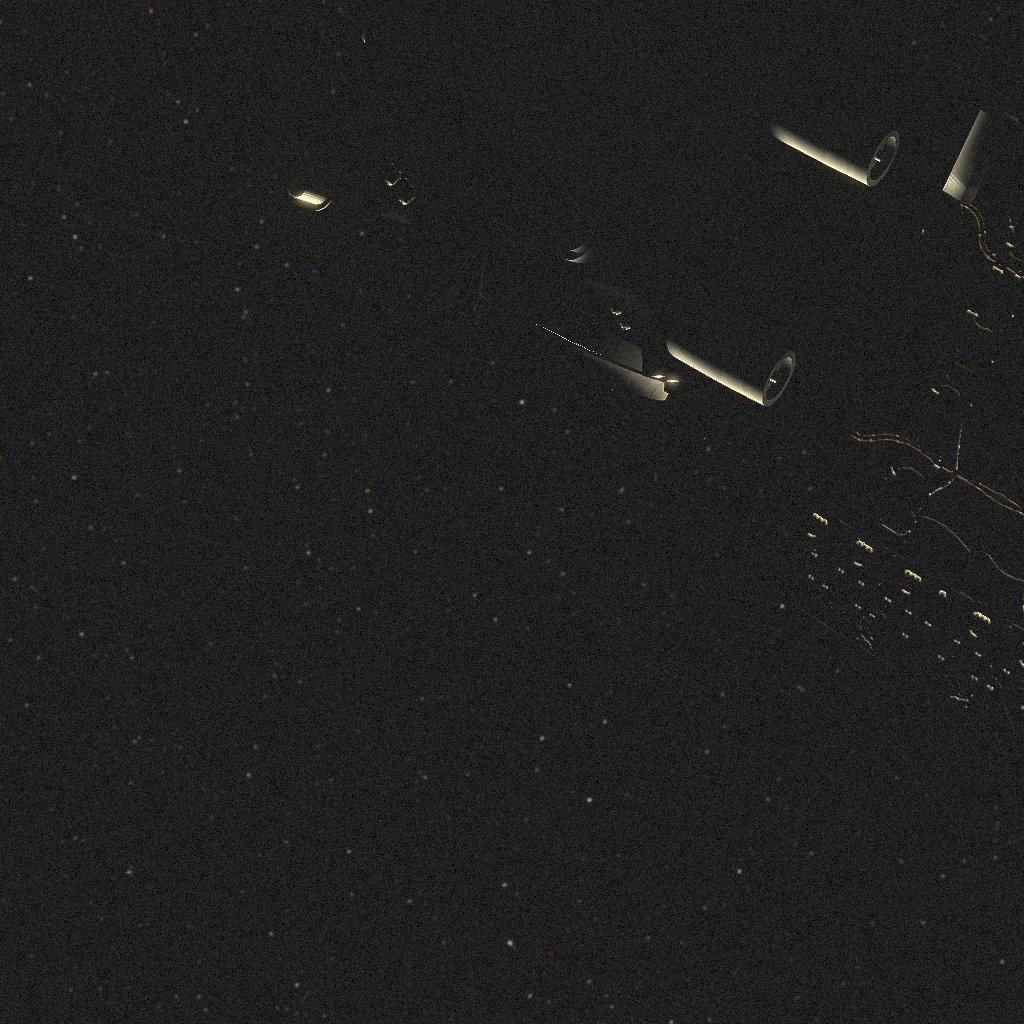proba_3_csc: (287, 0, 1024, 748)
